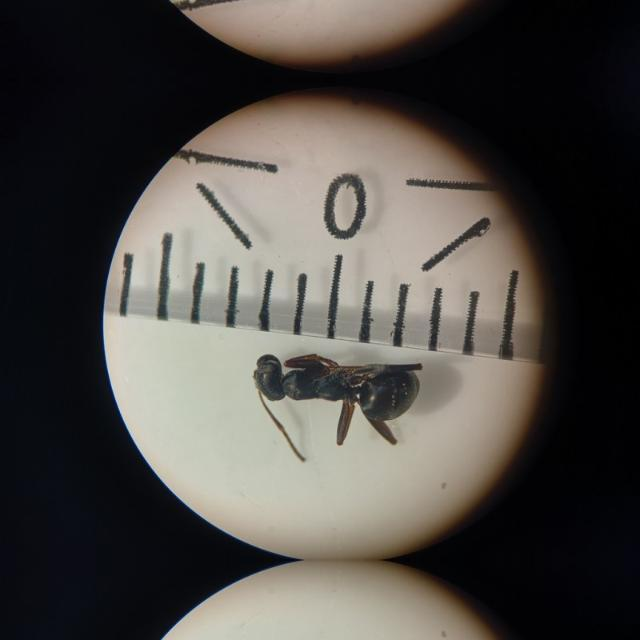Formica: (240, 331, 458, 451)
